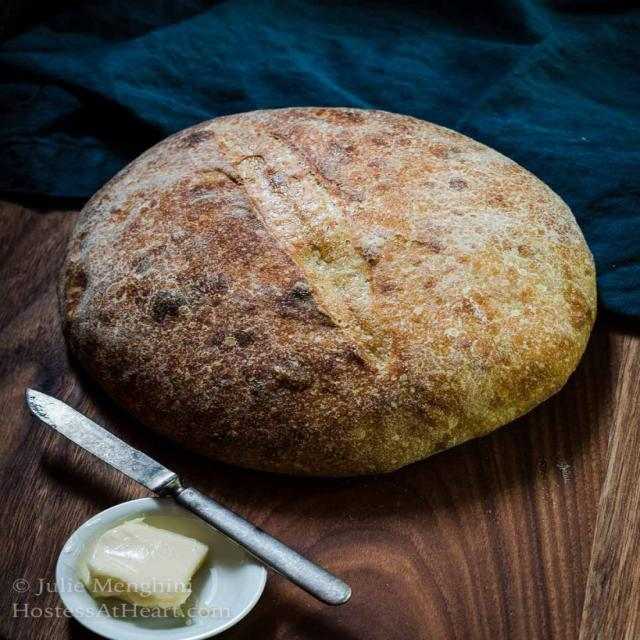Maltese-Bread: (62, 108, 595, 476)
